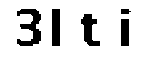3: (11, 6, 44, 49)
I: (50, 5, 65, 49)
i: (117, 7, 137, 53)
t: (80, 9, 106, 55)
